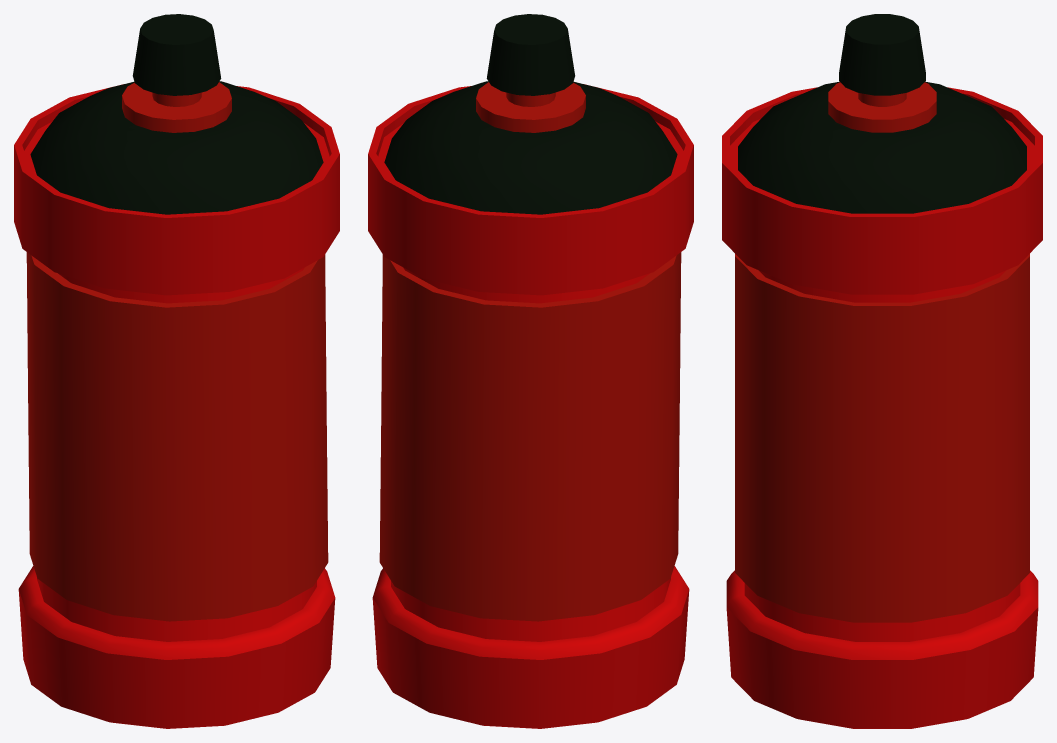
Rendered from GraffitiCan.fbx.
3 renders of one model, left to right at view 1: azimuth 30°, elevation 25°; view 2: azimuth 150°, elevation 25°; view 3: azimuth 270°, elevation 25°, orthographic.
Parts seen in each view (by area): view 1: Cylinder.006; view 2: Cylinder.006; view 3: Cylinder.006.
Boxes of the visible parts, x1=… form: Cylinder.006: x1=14, y1=14, x2=339, y2=728; Cylinder.006: x1=368, y1=14, x2=693, y2=728; Cylinder.006: x1=722, y1=14, x2=1042, y2=728.
Bounding box in the file's own units: 57.48 × 126 × 57.48.
